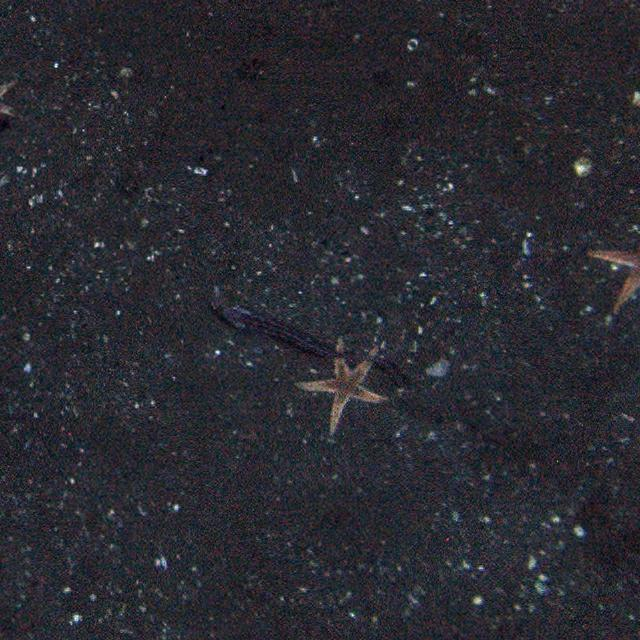eel: (215, 301, 411, 384)
